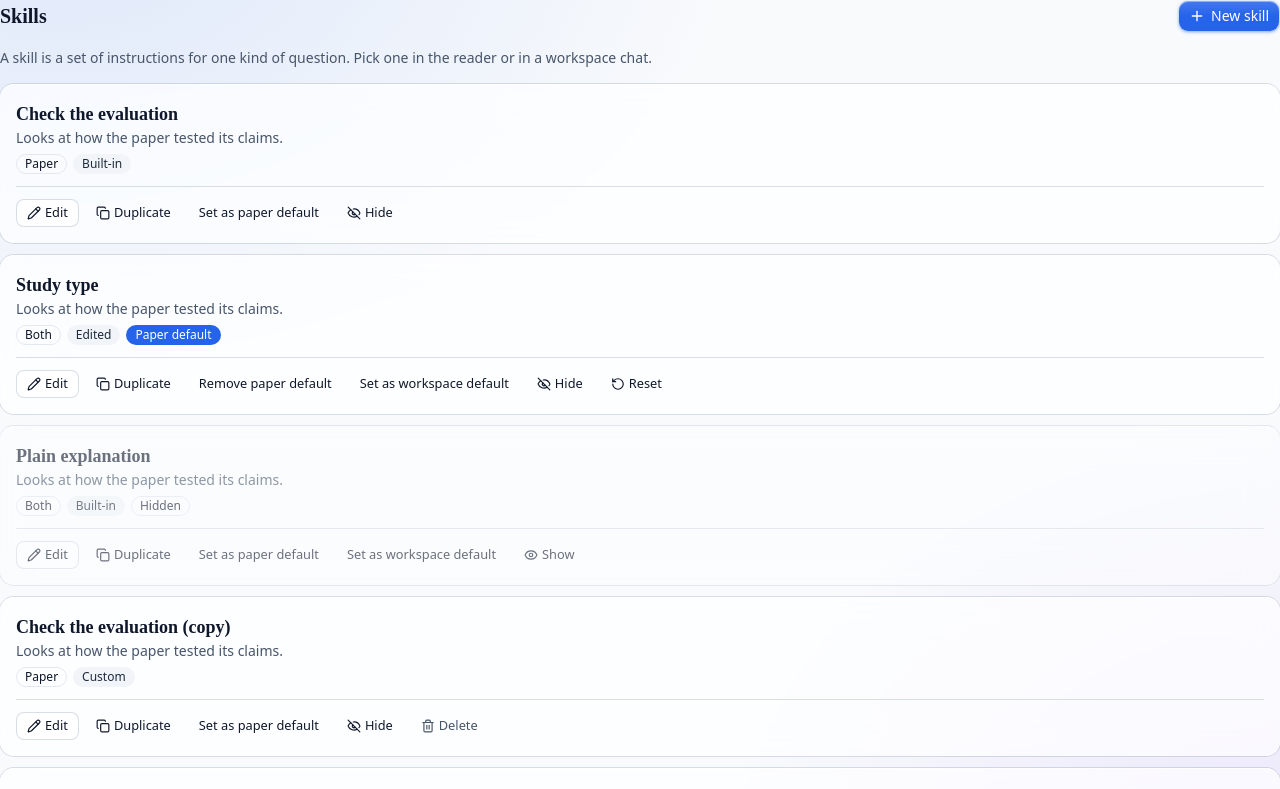
Test: SkillsSettings actions › opens a blank editor from New skill
Click the button "New skill": (1229, 16) [1178,0,1279,32]
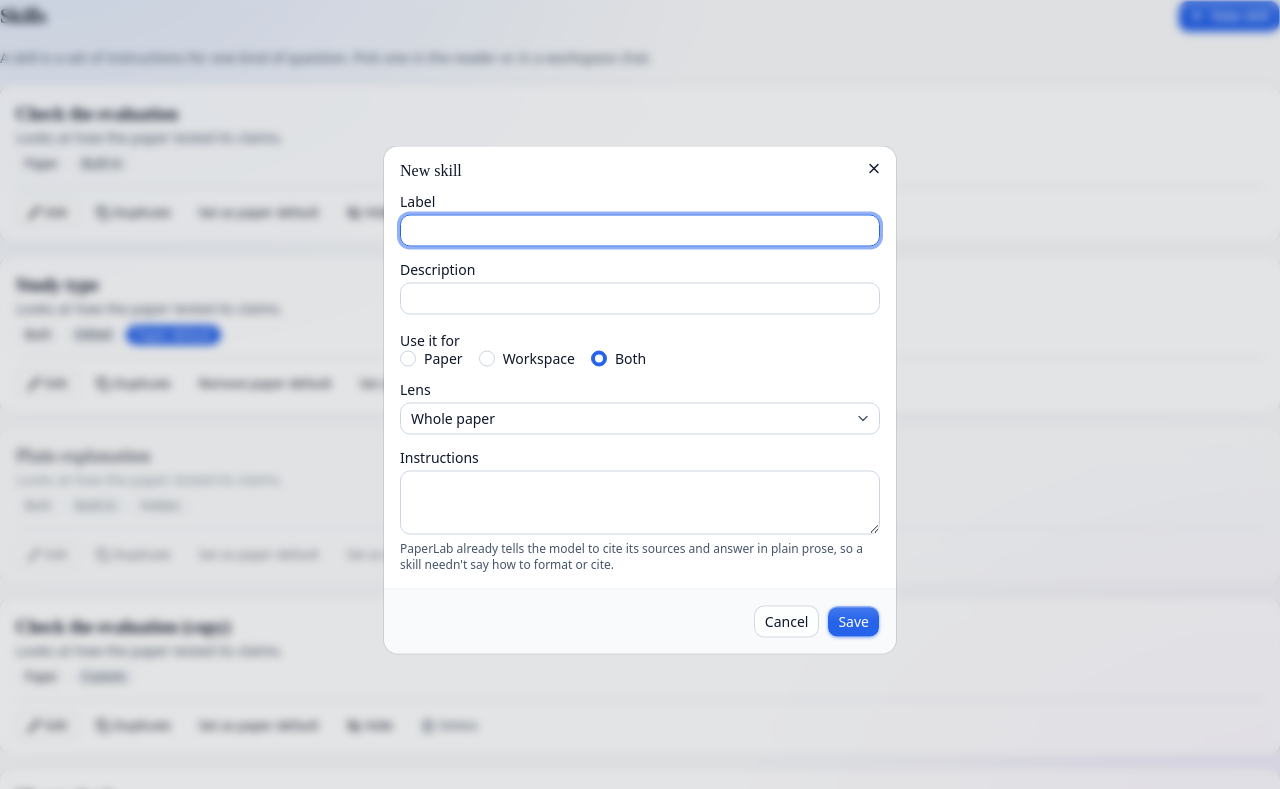
Check: the dialog shows "New skill", box [400,162,462,178]
Check: the field labelled "Label" is empty, box [400,214,880,246]
